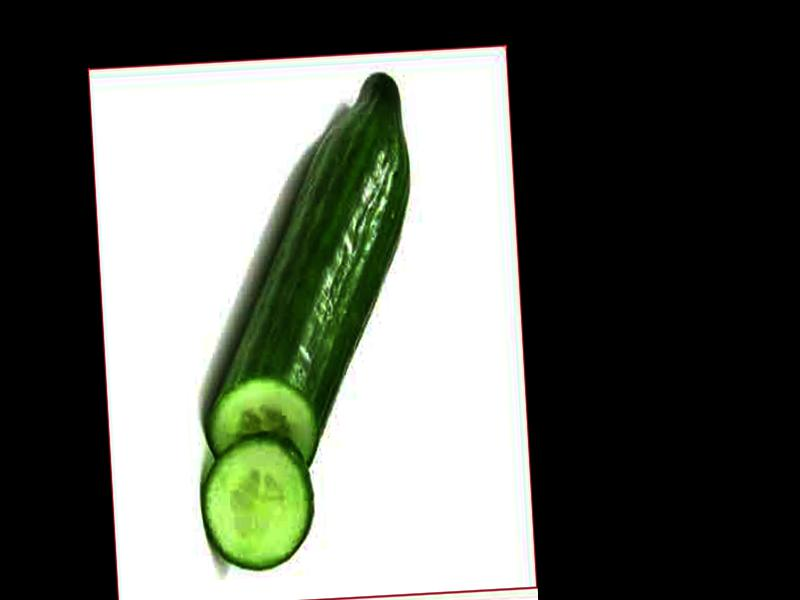Cucumber: (186, 70, 425, 479)
